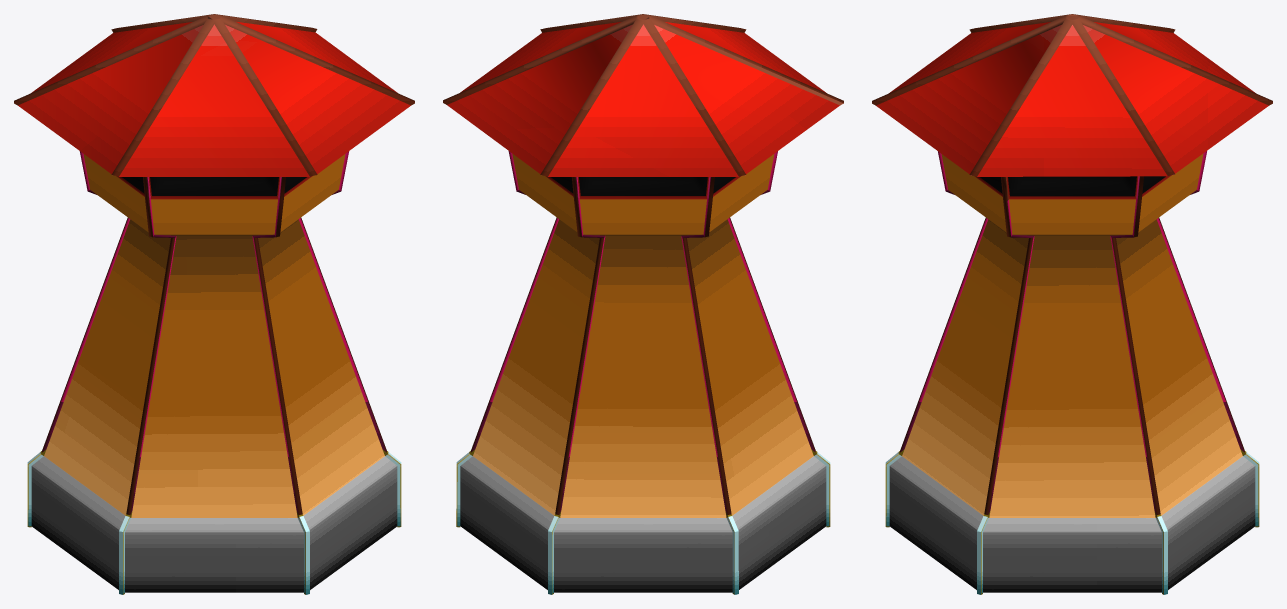
The model's file is CanonTowerCol.fbx.
3 renders of one model, left to right at view 1: azimuth 30°, elevation 25°; view 2: azimuth 150°, elevation 25°; view 3: azimuth 270°, elevation 25°, orthographic.
Parts seen in each view (by area): view 1: Hexagon.002, Hexagon.001; view 2: Hexagon.002, Hexagon.001; view 3: Hexagon.002, Hexagon.001.
Part boxes in pixels (bbox=[...]): Hexagon.002: bbox=[14, 14, 414, 517]; Hexagon.001: bbox=[27, 450, 401, 594]; Hexagon.002: bbox=[443, 14, 843, 517]; Hexagon.001: bbox=[456, 449, 830, 594]; Hexagon.002: bbox=[872, 14, 1272, 517]; Hexagon.001: bbox=[885, 450, 1259, 594].
Bounding box in the file's own units: 99.65 × 160 × 114.
